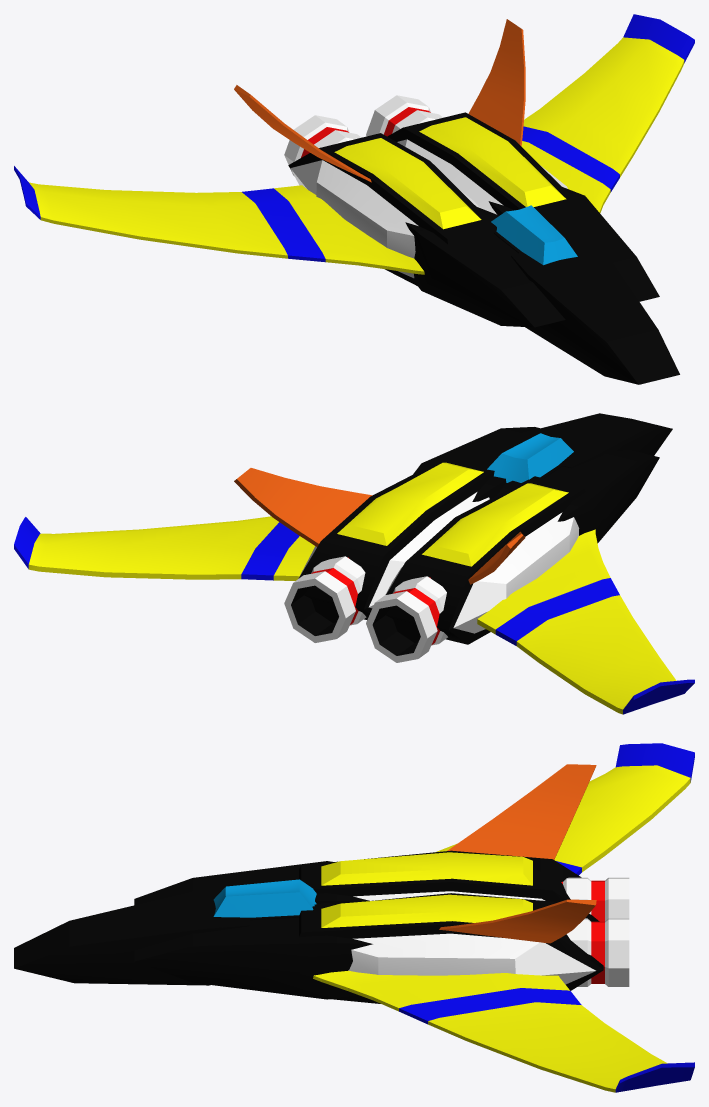
Rendered from Modules_Spaceship_2.fbx.
The picture shows the model from 3 angles, top to bottom: view 1: azimuth 30°, elevation 25°; view 2: azimuth 150°, elevation 25°; view 3: azimuth 270°, elevation 25°; orthographic projection. The views are drawn at different scales.
Visible parts, largest first — view 1: Wind, pCube4, pCube3, pCube5, pCube2, pPlane2, Engine, pCube1; view 2: Wind, pCube4, pCube2, Engine, pCube3, pPlane2, pCube5, pCube1; view 3: Wind, pCube2, pCube3, pCube5, pCube4, pPlane2, Engine, pCube1.
Part boxes in pixels (bbox=[...]): Wind: bbox=[14, 14, 694, 274]; pCube4: bbox=[288, 133, 496, 285]; pCube3: bbox=[405, 187, 659, 327]; pCube5: bbox=[511, 239, 679, 384]; pCube2: bbox=[387, 112, 583, 220]; pPlane2: bbox=[234, 19, 525, 182]; Engine: bbox=[284, 95, 442, 176]; pCube1: bbox=[491, 205, 577, 265]; Wind: bbox=[14, 516, 694, 714]; pCube4: bbox=[385, 476, 585, 644]; pCube2: bbox=[298, 455, 494, 619]; Engine: bbox=[284, 556, 447, 662]; pCube3: bbox=[413, 427, 659, 543]; pPlane2: bbox=[234, 468, 525, 584]; pCube5: bbox=[503, 413, 672, 468]; pCube1: bbox=[487, 433, 573, 483]; Wind: bbox=[313, 743, 694, 1092]; pCube2: bbox=[299, 893, 603, 1003]; pCube3: bbox=[134, 861, 372, 999]; pCube5: bbox=[14, 889, 249, 985]; pCube4: bbox=[299, 850, 599, 921]; pPlane2: bbox=[439, 764, 596, 943]; Engine: bbox=[561, 877, 629, 986]; pCube1: bbox=[213, 879, 318, 920].
Size of the model in its own units: 567 by 113 by 487.
